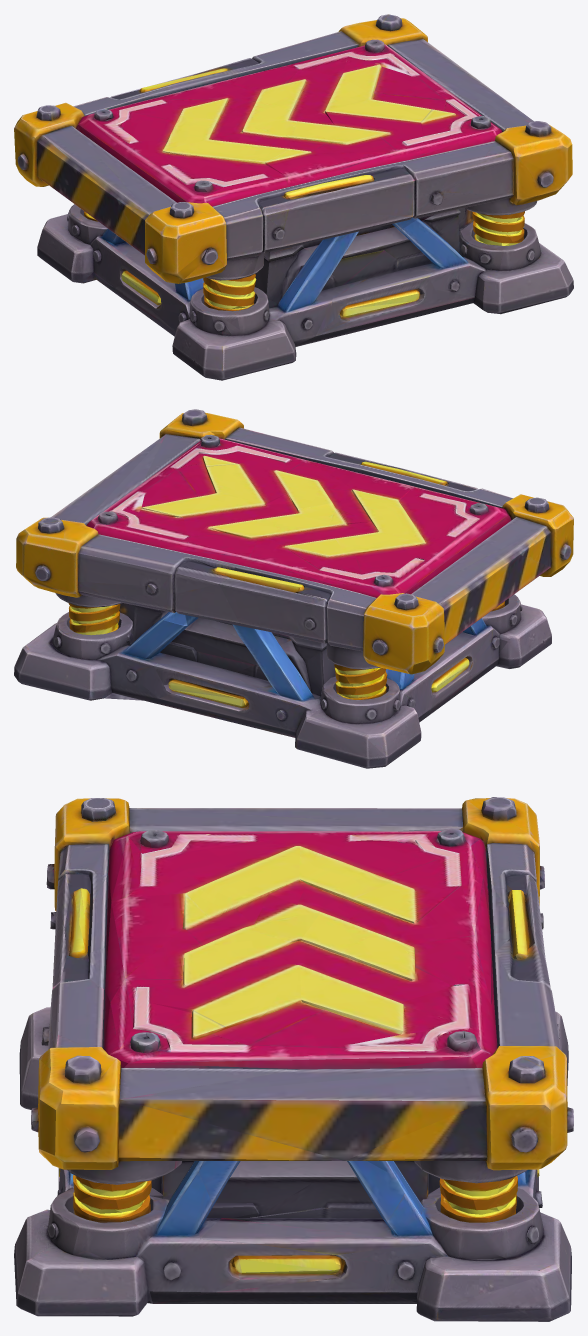
File: jump_pad.glb
3 views of the same model, one above another, from view 1: azimuth 30°, elevation 25°; view 2: azimuth 150°, elevation 25°; view 3: azimuth 270°, elevation 25° (orthographic). The views are drawn at different scales.
Parts seen in each view (by area): view 1: output_unwrapped; view 2: output_unwrapped; view 3: output_unwrapped.
Boxes of the visible parts, x1,y1,x2,y2 form: output_unwrapped: [14, 14, 573, 380]; output_unwrapped: [14, 409, 573, 768]; output_unwrapped: [14, 797, 573, 1321].
Size of what is drawn, in the model's own units: 2.67 by 0.9999 by 2.07.
Materials: 1 (1 with a texture image).
